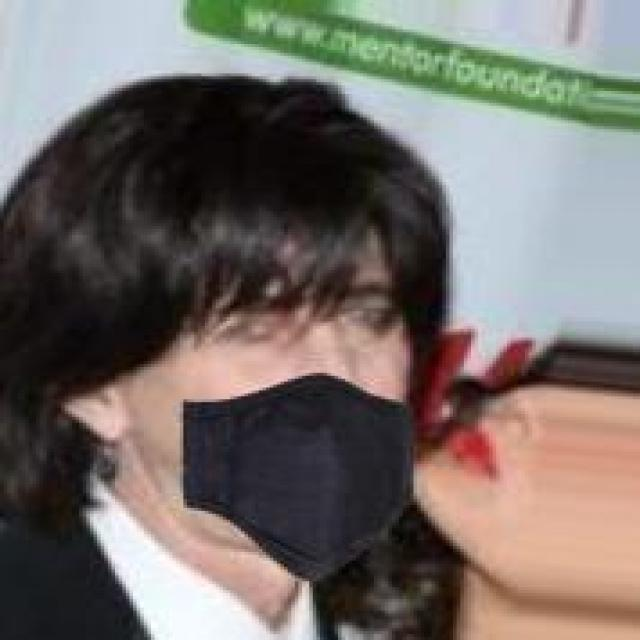mask: (119, 73, 489, 558)
